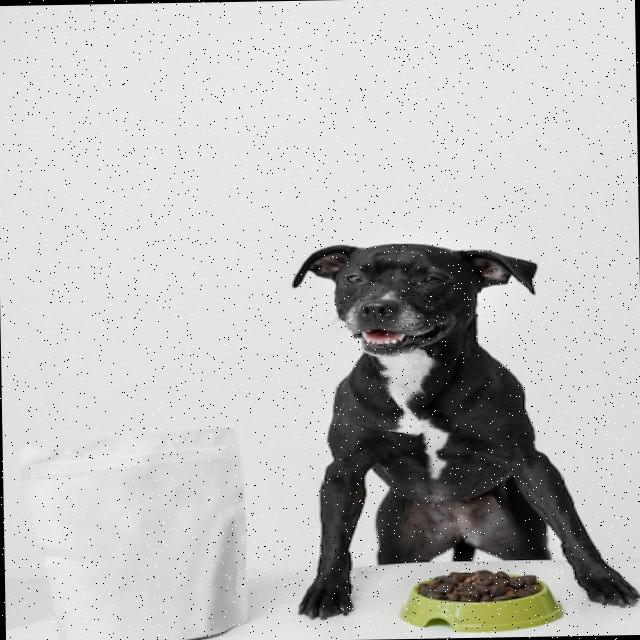Dog: (290, 236, 640, 619)
